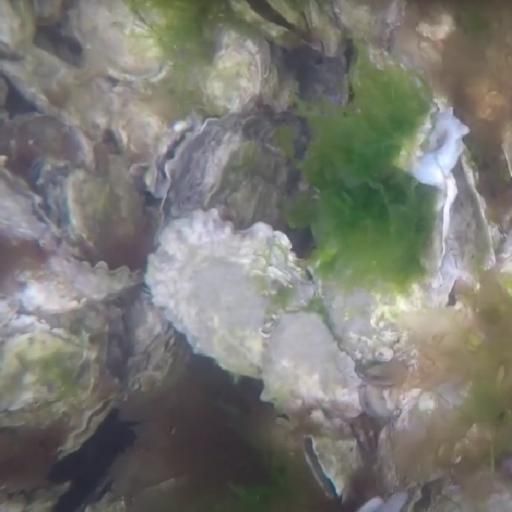Oyster-Closed: (152, 210, 368, 417), (1, 43, 109, 139), (70, 1, 168, 88), (67, 165, 147, 271), (392, 395, 450, 493), (203, 35, 264, 124), (99, 86, 165, 167), (329, 1, 395, 49), (1, 1, 40, 55)
Oyster-Open: (1, 312, 101, 424), (439, 150, 495, 275), (392, 100, 464, 190), (54, 374, 124, 464), (293, 430, 368, 511), (1, 155, 54, 249), (143, 120, 205, 198), (226, 1, 307, 52)
